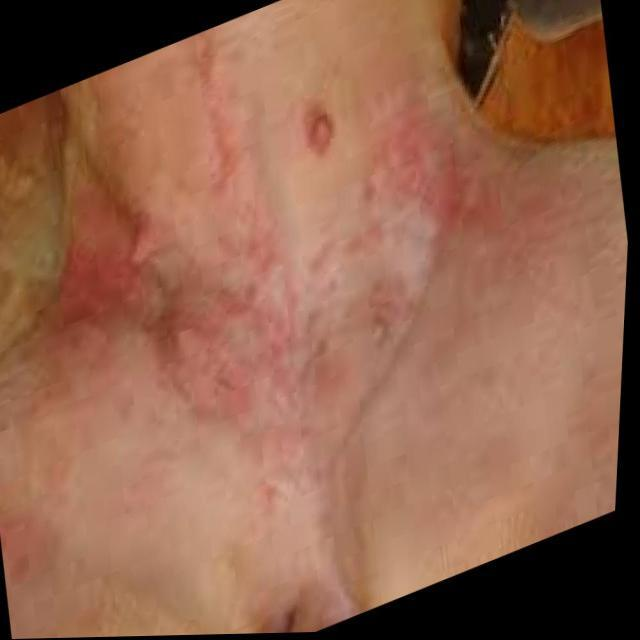allergic dermatitis: (148, 220, 308, 508), (186, 46, 247, 257), (376, 104, 462, 248), (71, 184, 146, 335)
